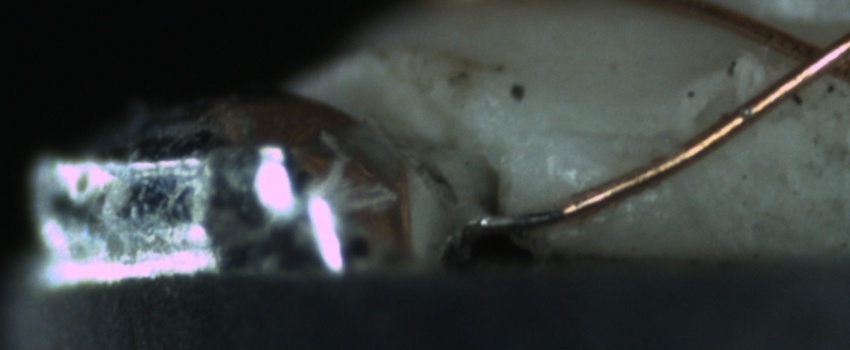CL: (770, 22, 846, 93)
DL: (538, 103, 679, 162)
TS: (477, 202, 564, 232)
TTCW: (472, 186, 607, 234)
